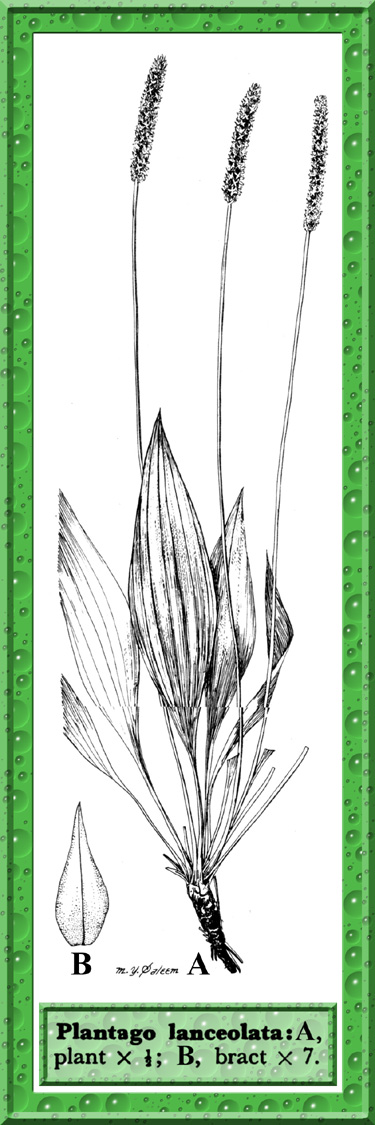buckhorn plantain: (54, 55, 330, 881)
